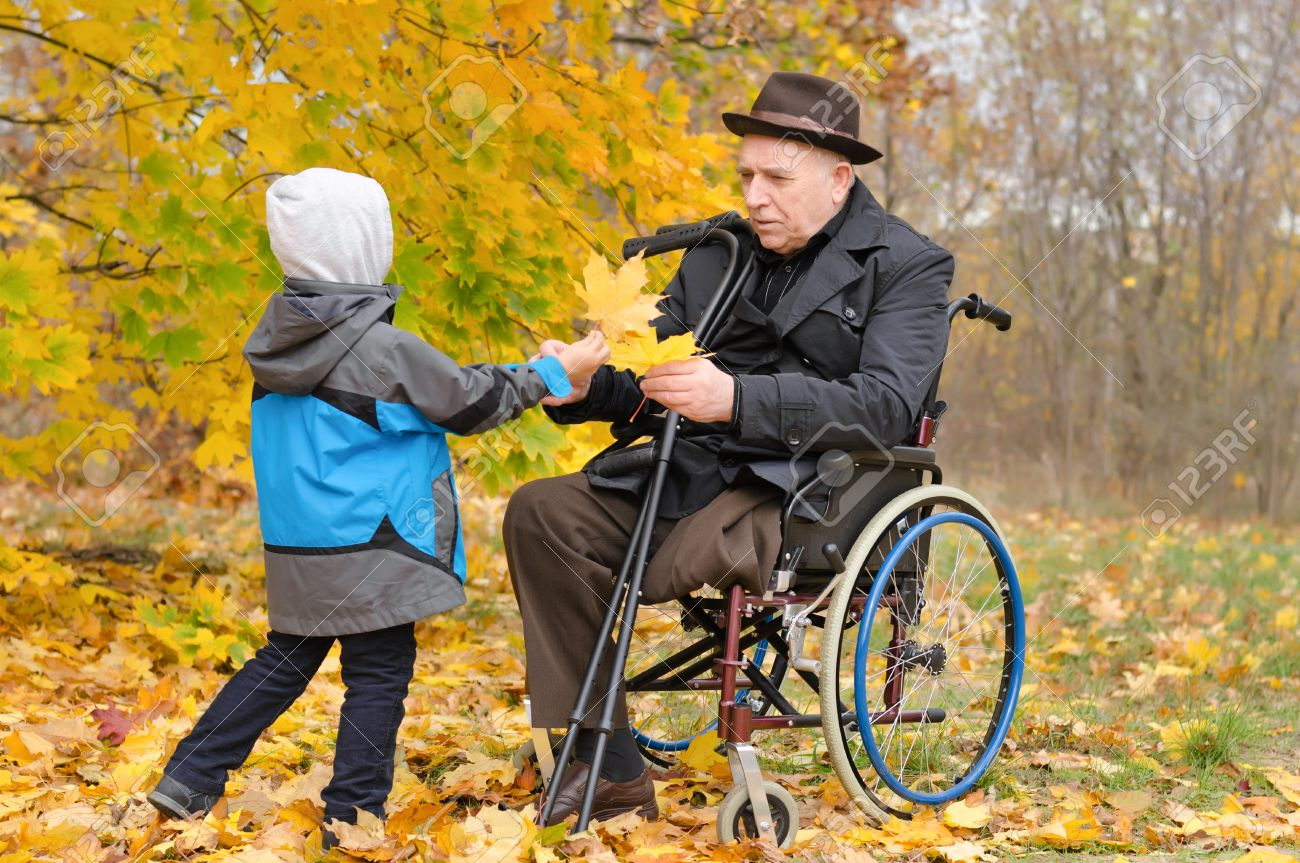wheelchair: (502, 70, 1027, 853)
